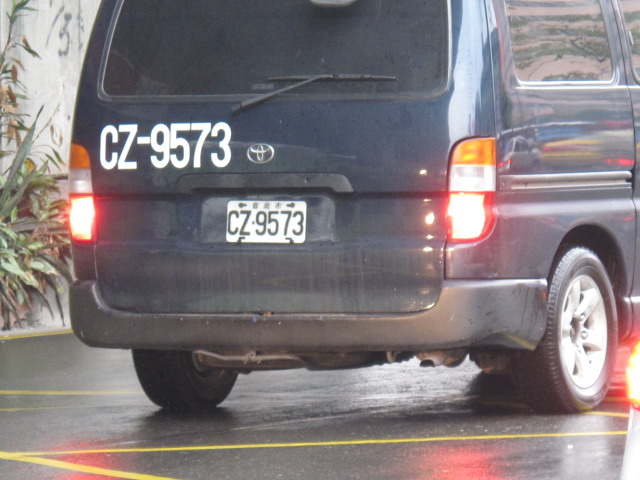plate: (224, 199, 309, 246)
